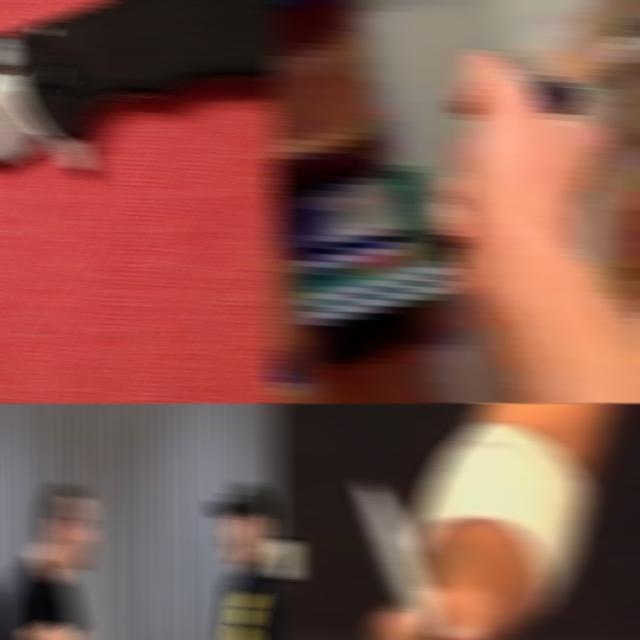Knife: (358, 481, 442, 640)
Knife_Handle: (431, 0, 640, 274), (352, 476, 518, 640), (121, 625, 180, 640)
